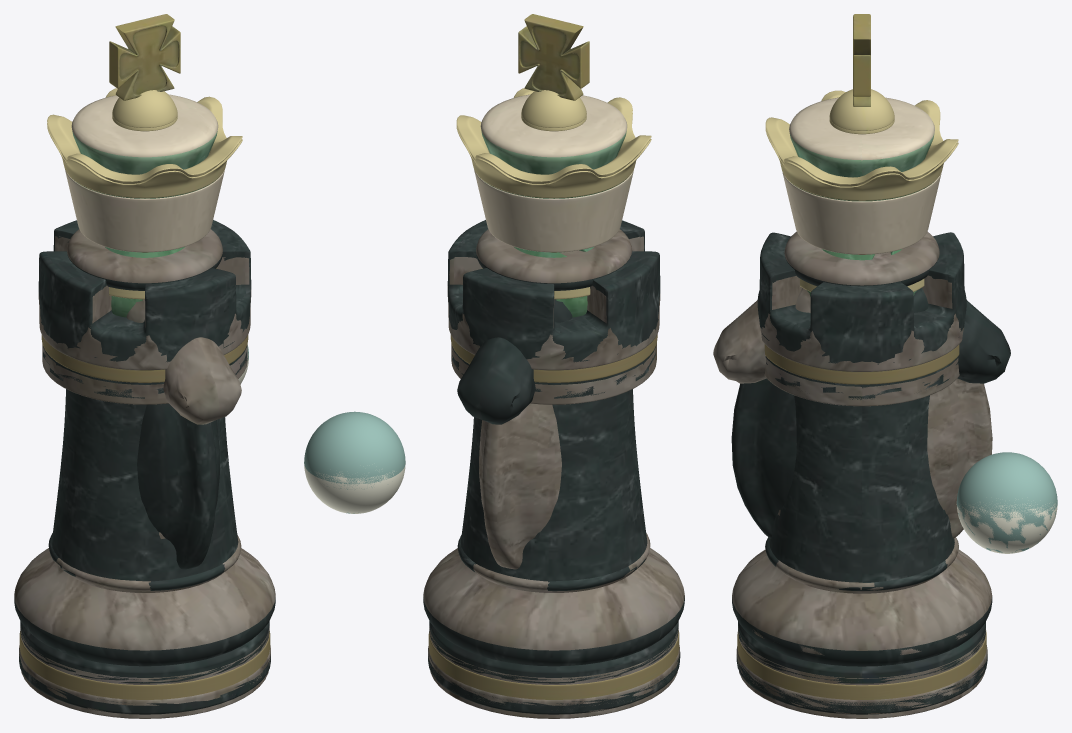
File: chess-set.glb
The picture shows the model from 3 angles, left to right: view 1: azimuth 30°, elevation 25°; view 2: azimuth 150°, elevation 25°; view 3: azimuth 270°, elevation 25°; orthographic projection.
Visible parts, largest first — view 1: Castle_B1, King_W, Castle_W1, King_B, Knight_B1, Queen_W, Knight_W1, Queen_B, Bishop_B1; view 2: Castle_B1, King_W, Castle_W1, King_B, Knight_W1, Queen_W, Knight_B1, Pawn_Top_B1, Queen_B, Pawn_Top_W1, Bishop_B1; view 3: Castle_B1, King_W, Castle_W1, Knight_B1, Queen_W, Knight_W1, King_B, Pawn_Top_B1, Queen_B, Pawn_Top_W1.
Boxes of the visible parts, x1,y1,x2,y2 form: Castle_B1: [19, 220, 270, 697]; King_W: [14, 14, 275, 711]; Castle_W1: [19, 236, 270, 718]; King_B: [14, 21, 275, 714]; Knight_B1: [48, 403, 225, 590]; Queen_W: [47, 116, 242, 299]; Knight_W1: [54, 299, 241, 591]; Queen_B: [47, 88, 242, 294]; Bishop_B1: [105, 247, 184, 317]; Castle_B1: [428, 220, 679, 697]; King_W: [423, 14, 684, 711]; Castle_W1: [428, 236, 679, 718]; King_B: [423, 21, 684, 714]; Knight_W1: [473, 403, 650, 590]; Queen_W: [456, 113, 651, 299]; Knight_B1: [457, 299, 645, 591]; Pawn_Top_B1: [304, 411, 405, 513]; Queen_B: [456, 88, 651, 294]; Pawn_Top_W1: [304, 463, 405, 513]; Bishop_B1: [514, 246, 594, 317]; Castle_B1: [737, 232, 986, 697]; King_W: [732, 14, 992, 714]; Castle_W1: [737, 275, 986, 718]; Knight_B1: [731, 288, 1010, 590]; Queen_W: [765, 117, 958, 291]; Knight_W1: [713, 287, 992, 590]; King_B: [732, 39, 992, 714]; Pawn_Top_B1: [956, 452, 1057, 552]; Queen_B: [765, 89, 958, 288]; Pawn_Top_W1: [956, 502, 1057, 553].
Bounding box in the file's own units: 0.0702 × 0.1541 × 0.0742.
Materials: 14 (12 with a texture image).
